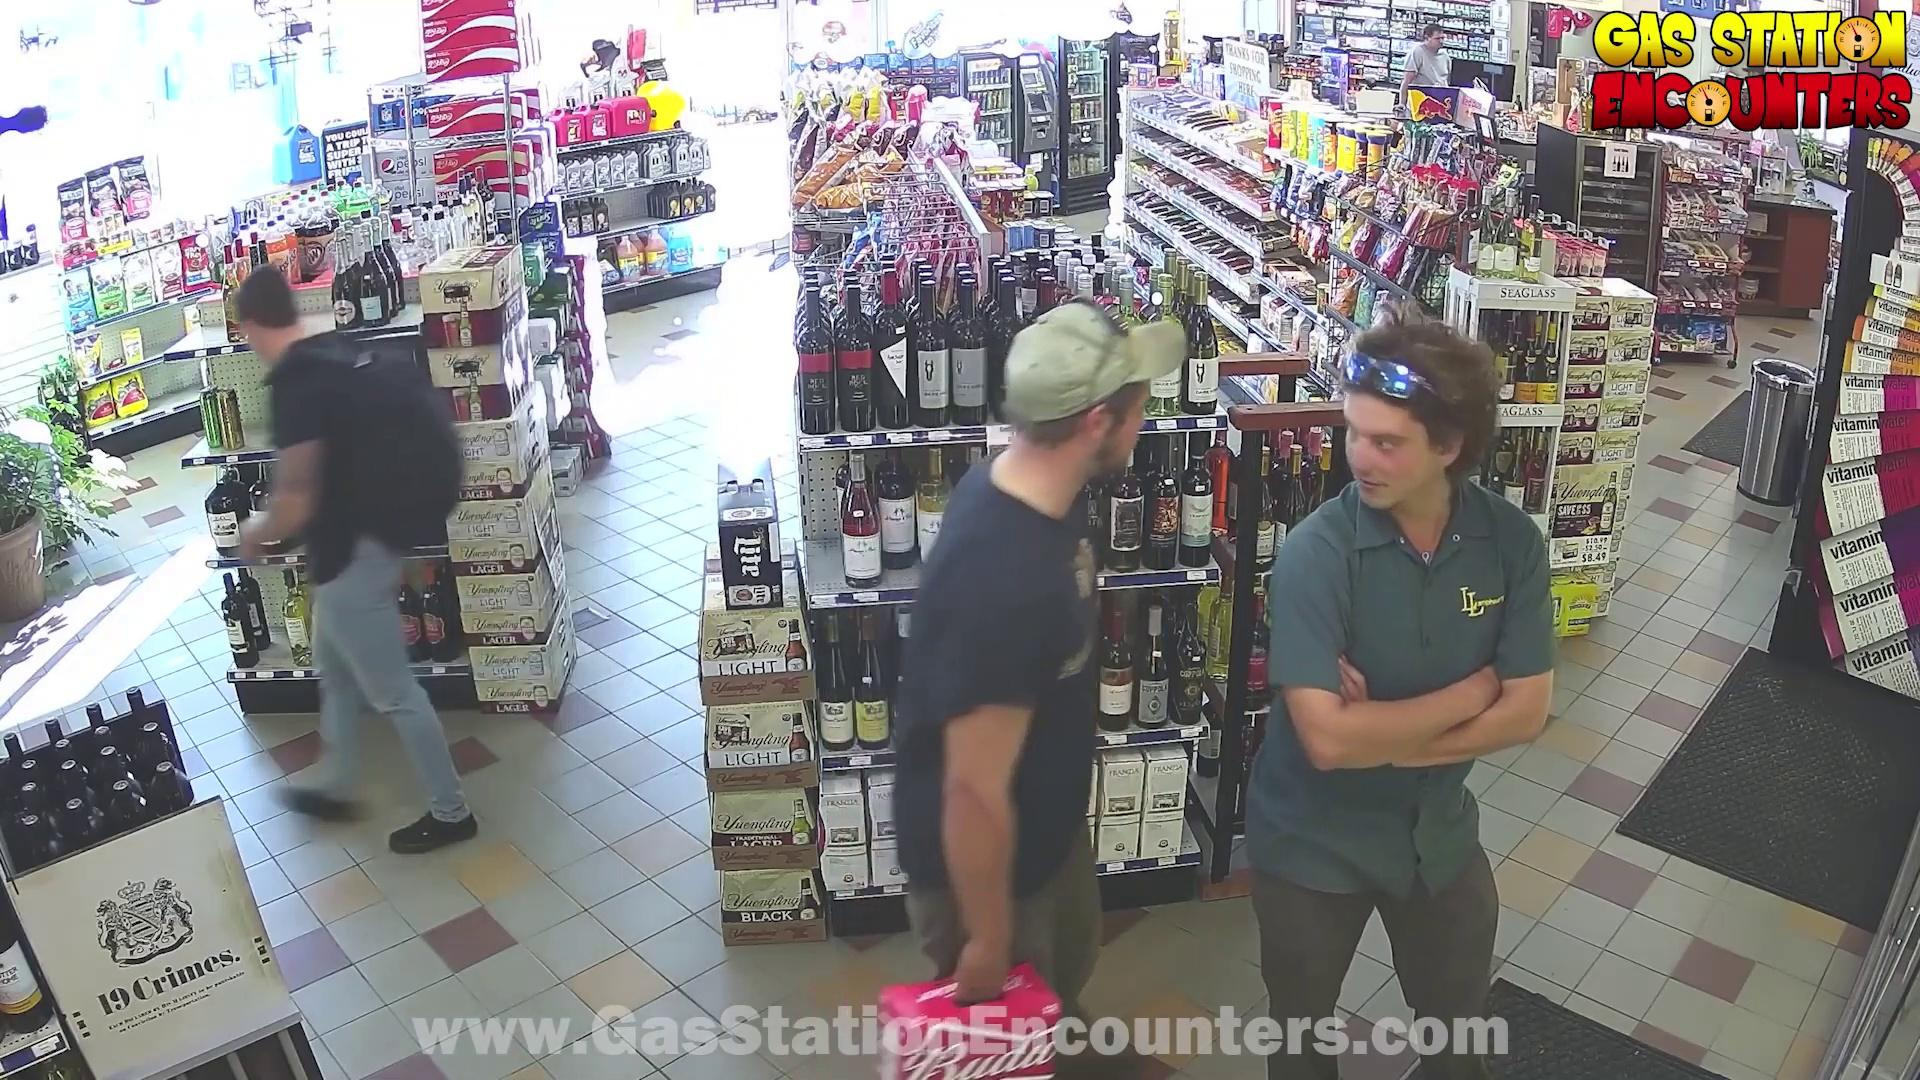1: (878, 955, 1069, 1080)
2: (774, 287, 1185, 1080)
3: (1208, 299, 1643, 1080), (164, 211, 488, 864)
persone: (339, 349, 491, 558)
